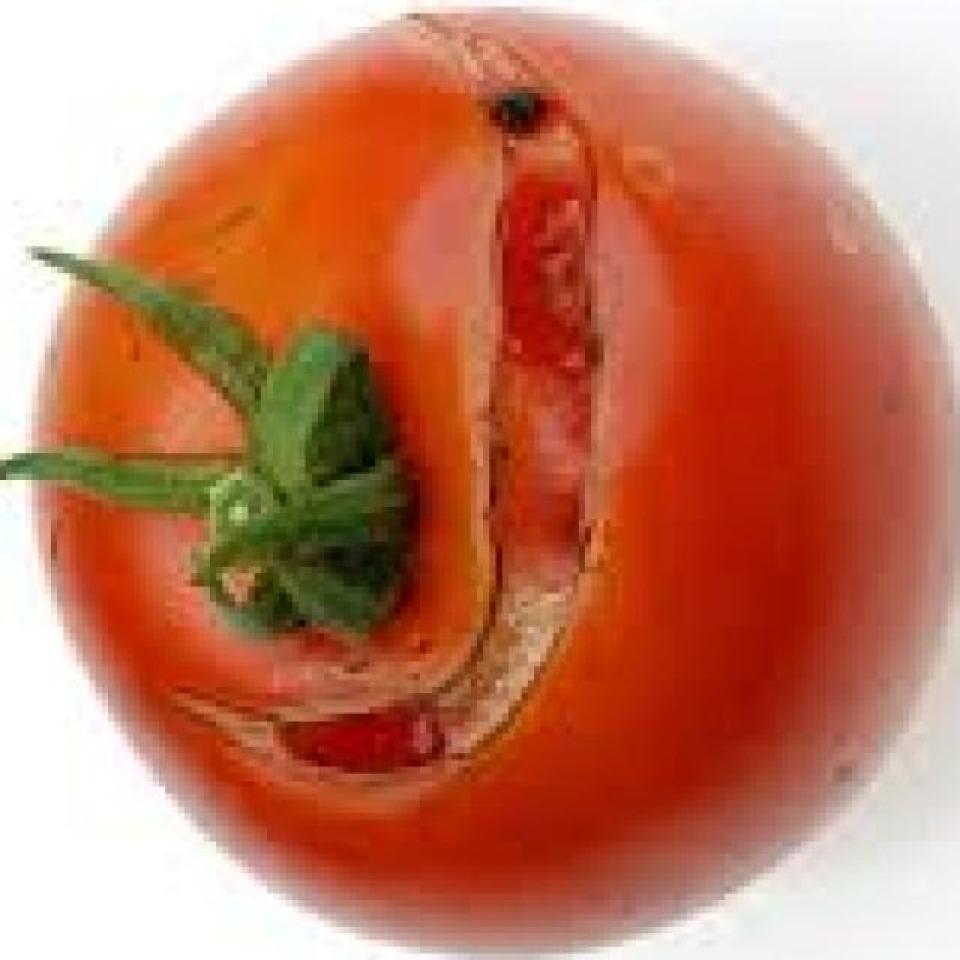Cracking: (152, 23, 642, 842)
